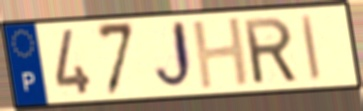4: (53, 26, 94, 98)
7: (96, 20, 139, 100)
H: (189, 14, 253, 92)
I: (299, 12, 323, 83)
J: (151, 18, 197, 94)
R: (240, 14, 301, 87)
